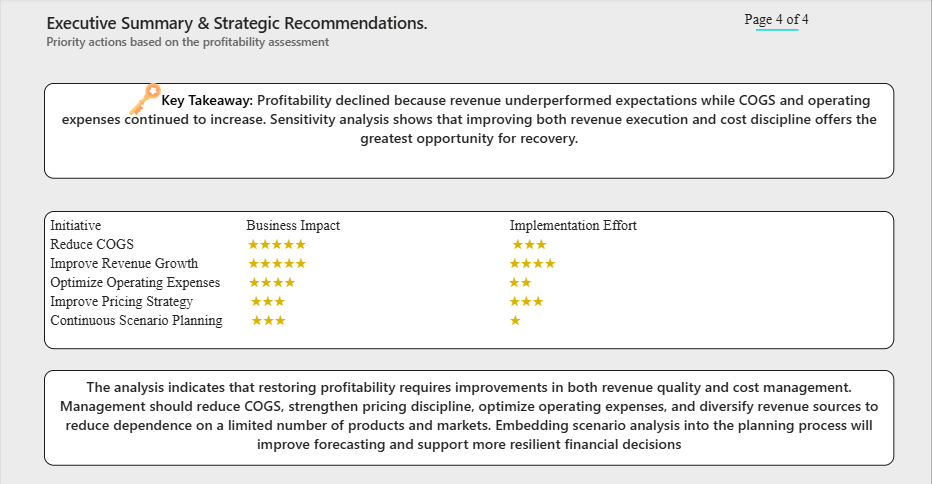

What the dashboard file says about the page in this screenshot:
{"tool":"powerbi","page":{"name":"Page 4","canvas":[2100,1100],"ordinal":3},"visuals":[{"type":"textbox","box":[96,192,1920,216],"z":0},{"type":"textbox","box":[96,24,1152,96],"z":1000},{"type":"textbox","box":[1488,24,528,72],"z":2000},{"type":"shape","box":[1704,0,96,144],"z":3000},{"type":"image","box":[288,192,72,72],"z":4000},{"type":"textbox","box":[96,480,1920,312],"z":5000},{"type":"textbox","box":[96,840,1920,216],"z":6000}]}

Visuals, with their boxes in screenshot pixels (x1, y1, x2, y2), scaled from the page's 2100x1100 canvas onto the 933x484 screenshot:
textbox: left=43, top=84, right=896, bottom=180
textbox: left=43, top=11, right=554, bottom=53
textbox: left=661, top=11, right=896, bottom=42
shape: left=757, top=0, right=800, bottom=63
image: left=128, top=84, right=160, bottom=116
textbox: left=43, top=211, right=896, bottom=348
textbox: left=43, top=370, right=896, bottom=465
